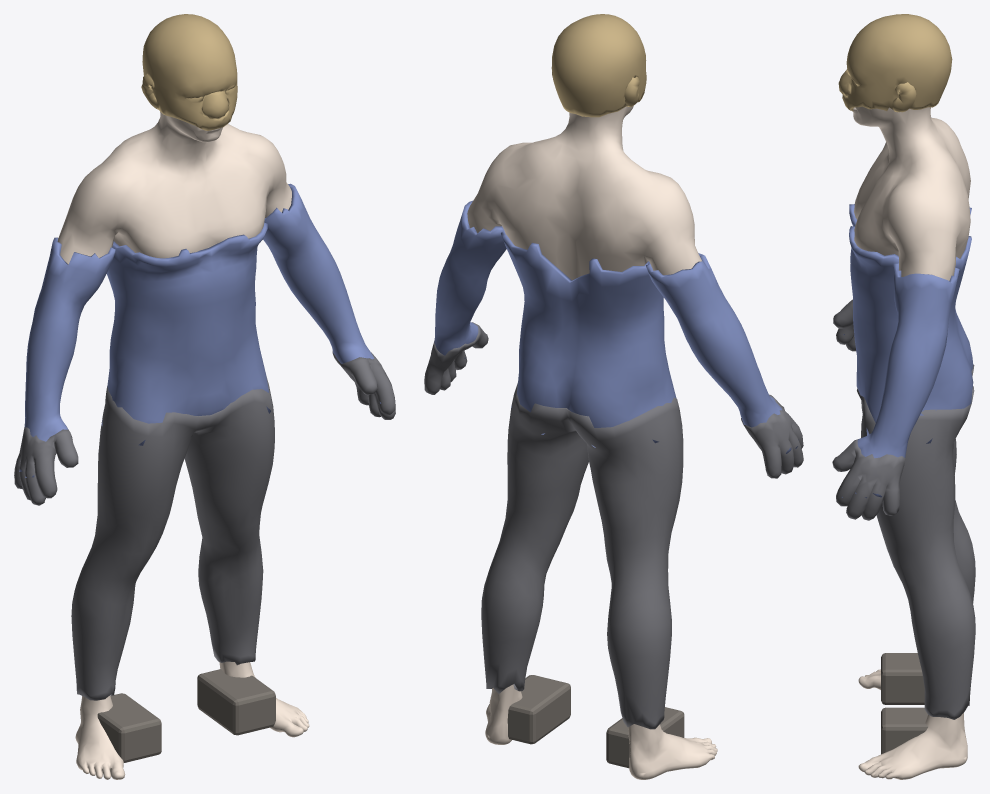
File: player_human.glb
3 views of the same model, side by side, from view 1: azimuth 30°, elevation 25°; view 2: azimuth 150°, elevation 25°; view 3: azimuth 270°, elevation 25° (orthographic).
Parts seen in each view (by area): view 1: PeriHuman; view 2: PeriHuman; view 3: PeriHuman.
Boxes of the visible parts, bbox=[...] form: PeriHuman: bbox=[14, 14, 395, 779]; PeriHuman: bbox=[424, 14, 803, 779]; PeriHuman: bbox=[832, 14, 975, 779].
Bounding box in the file's own units: 0.9365 × 1.78 × 0.3244.
